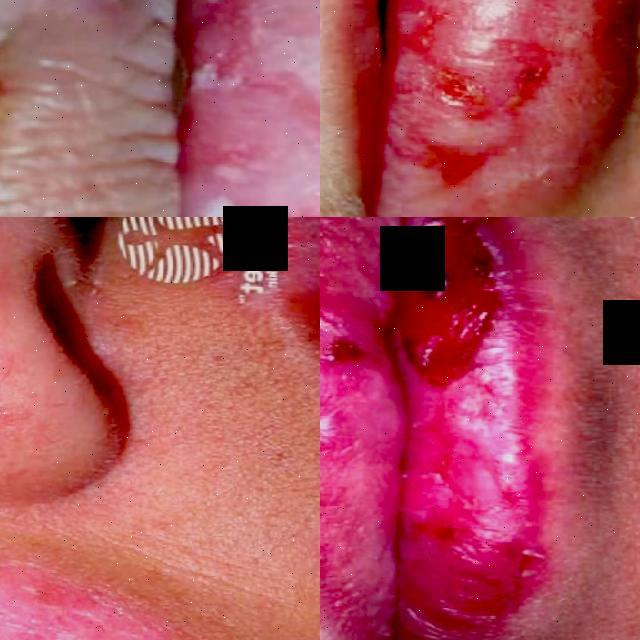lupus-detected: (320, 217, 595, 640), (0, 0, 320, 217), (320, 0, 640, 217), (0, 530, 320, 640)
